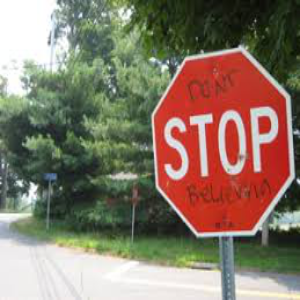STOP_SIGN: (150, 46, 296, 237)
